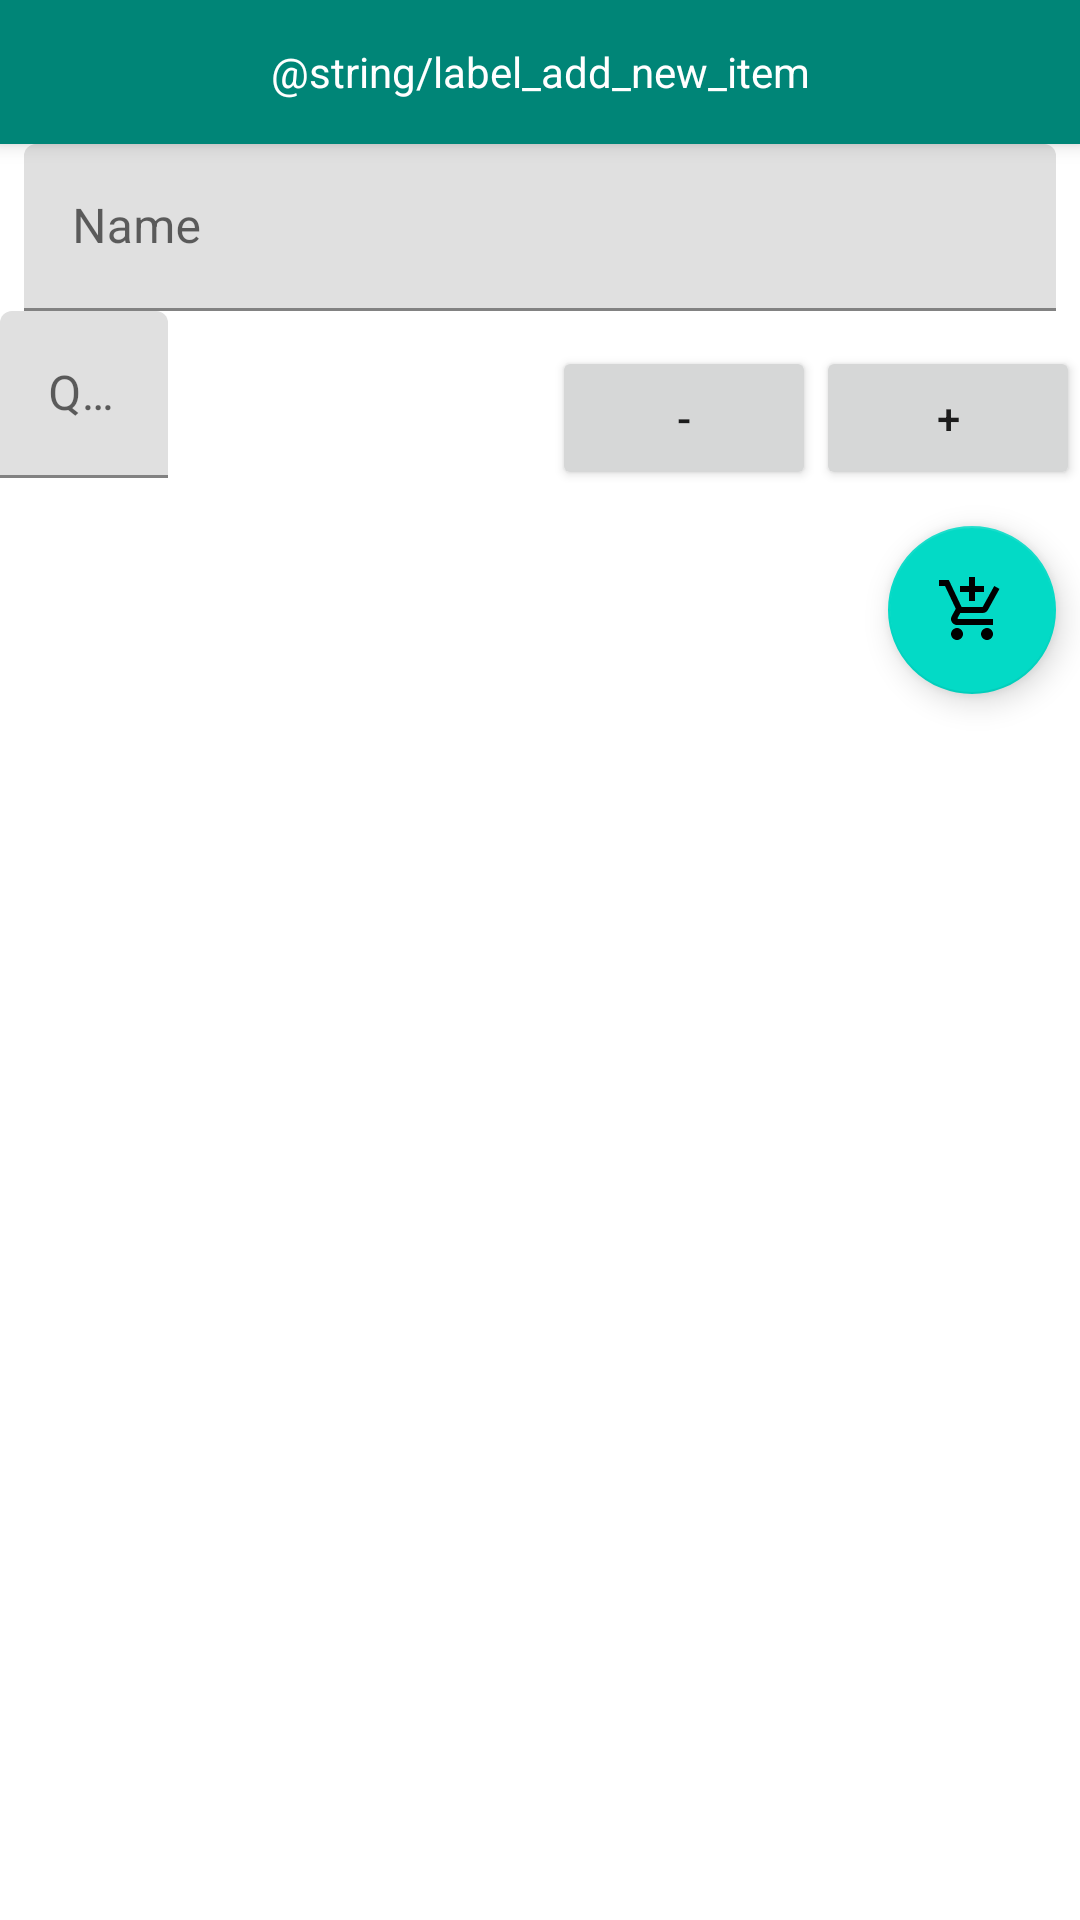

Icon bounding boxes for this 1080 × 1920 phone screenshot, format (x1, y1, x2, y2):
add shopping cart: (888, 526, 1056, 694)
